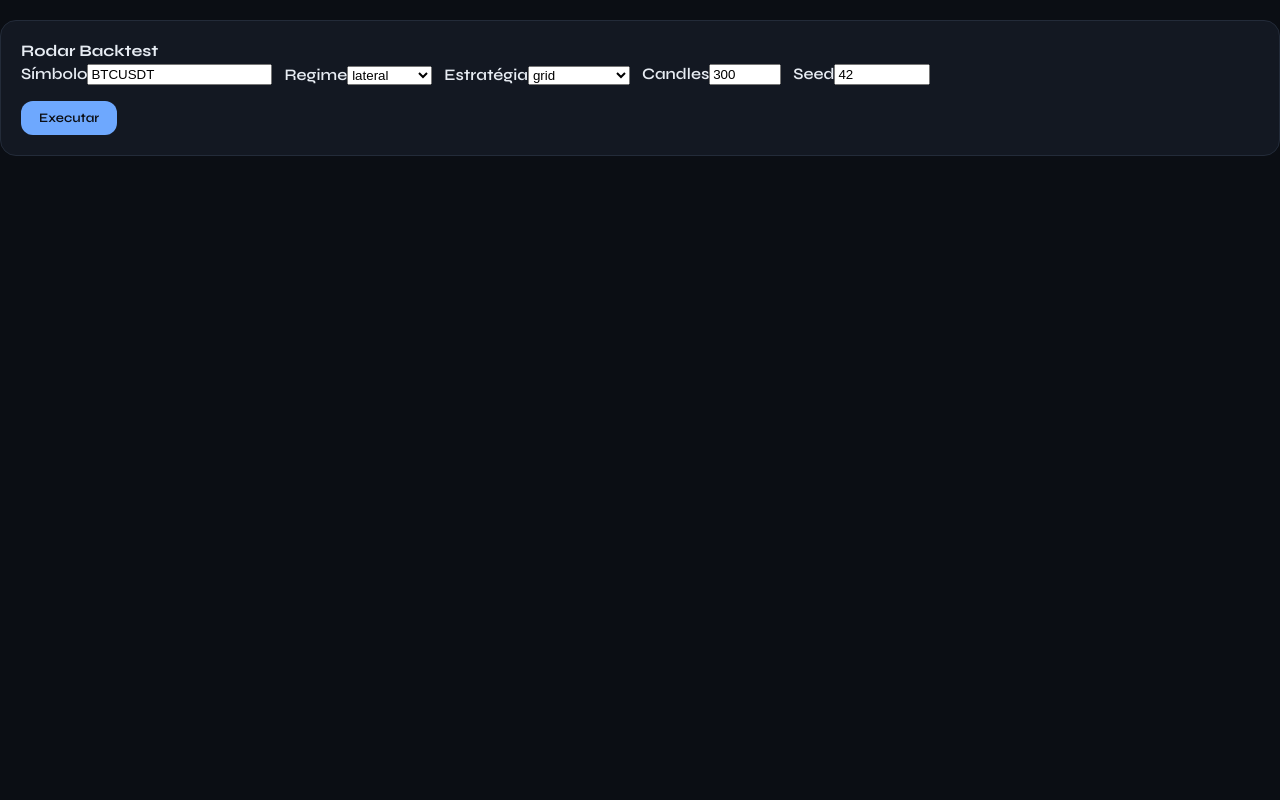
Test: BacktestRunner › exibe resultado apos backtest bem sucedido
Click the button "Executar".
click(69, 118)  # box 21,101 -> 117,135
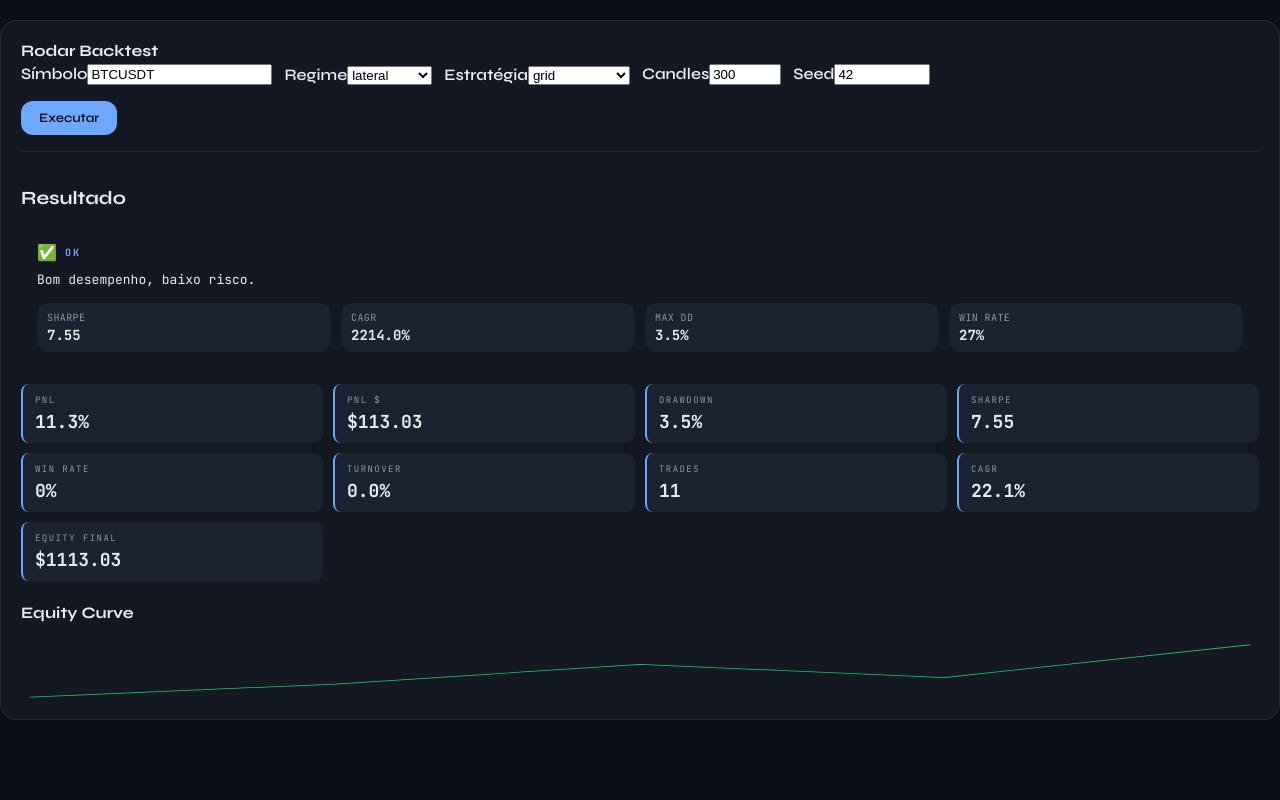
Expected: the heading "Resultado" is shown, 21,187 -> 126,209
